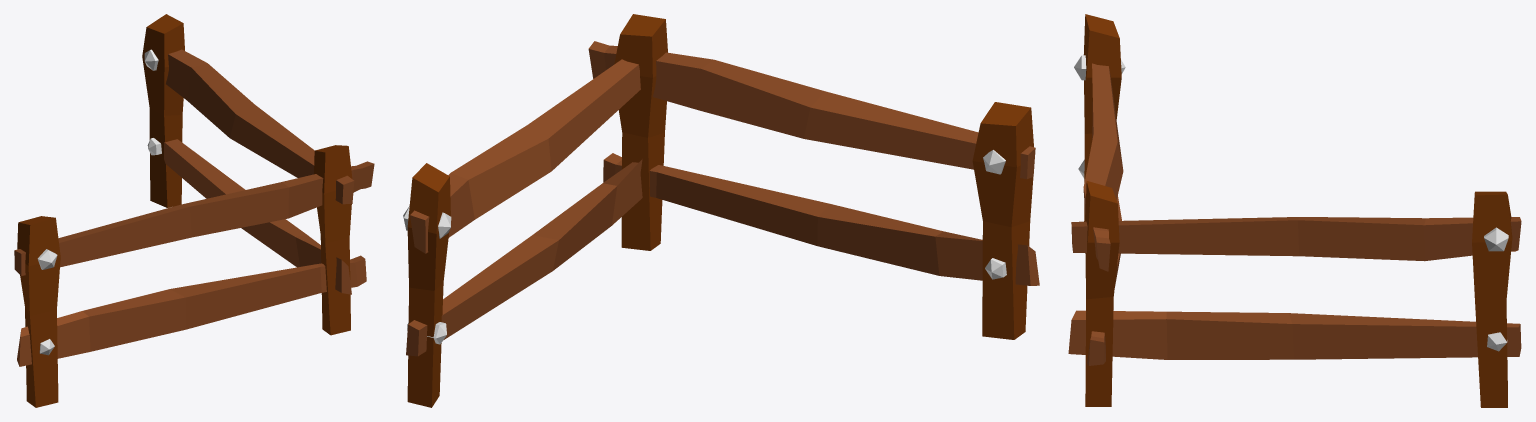
Rendered from Fence_Corner.fbx.
3 views of the same model, side by side, from view 1: azimuth 30°, elevation 25°; view 2: azimuth 150°, elevation 25°; view 3: azimuth 270°, elevation 25° (orthographic). The views are drawn at different scales.
Parts seen in each view (by area): view 1: Fence_Corner; view 2: Fence_Corner; view 3: Fence_Corner.
Boxes of the visible parts, x1=… form: Fence_Corner: x1=14, y1=14, x2=374, y2=407; Fence_Corner: x1=403, y1=14, x2=1039, y2=407; Fence_Corner: x1=1068, y1=14, x2=1521, y2=407.
Size of the model in its own units: 617 by 302 by 586.
